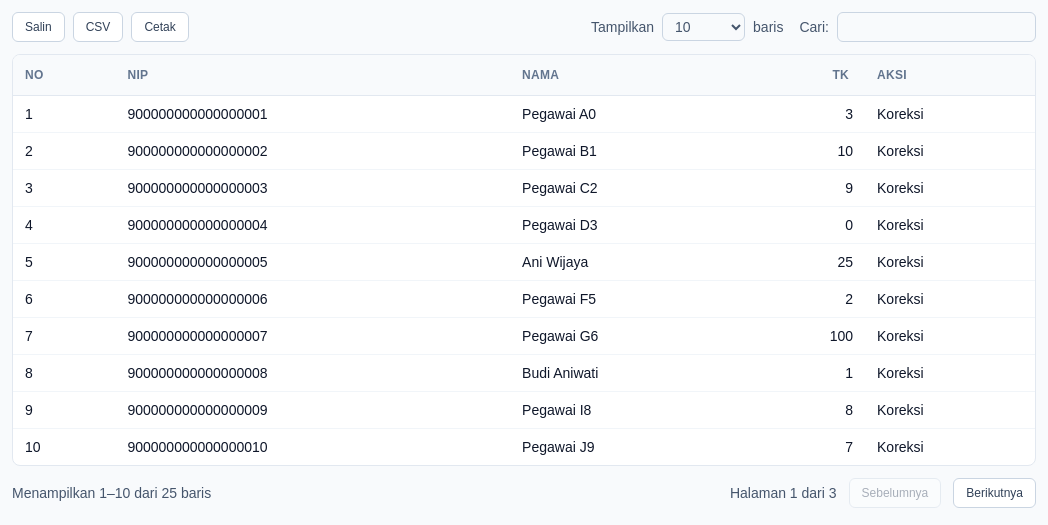
Test: TabelLaporan › pencarian tidak mencocokkan kolom yang tidak diekspor (Aksi)
Step 1. Type "koreksi" into the search field labelled "Cari:" → point(936, 27), box [837,12,1036,42]
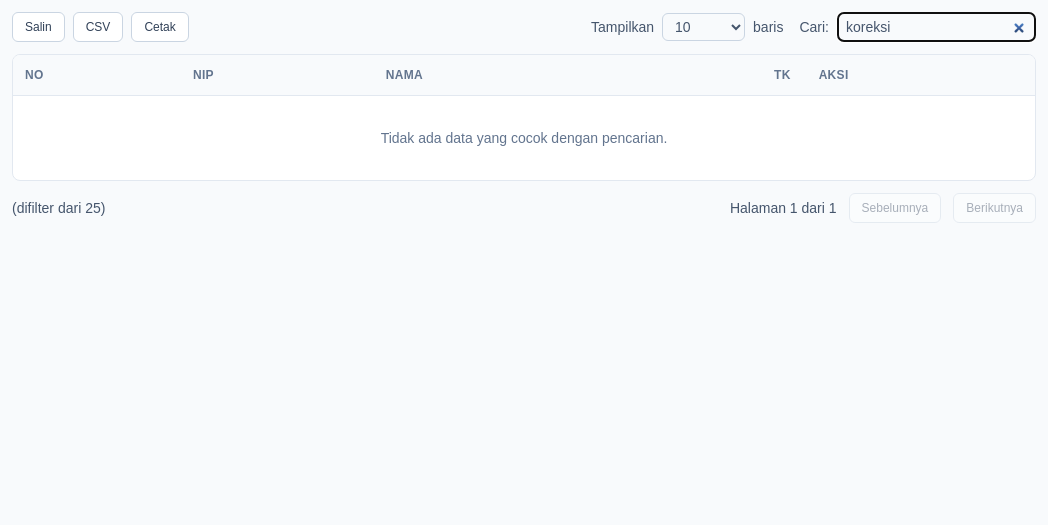
Now the text "Tidak ada data yang cocok dengan pencarian." is shown, box [13,96,1035,180]
